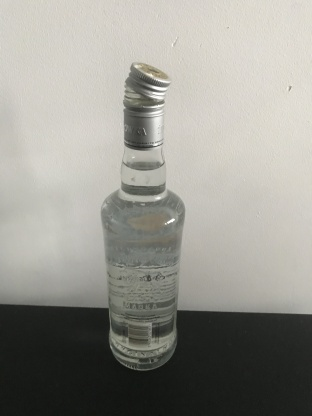nakretka: (121, 59, 173, 151)
